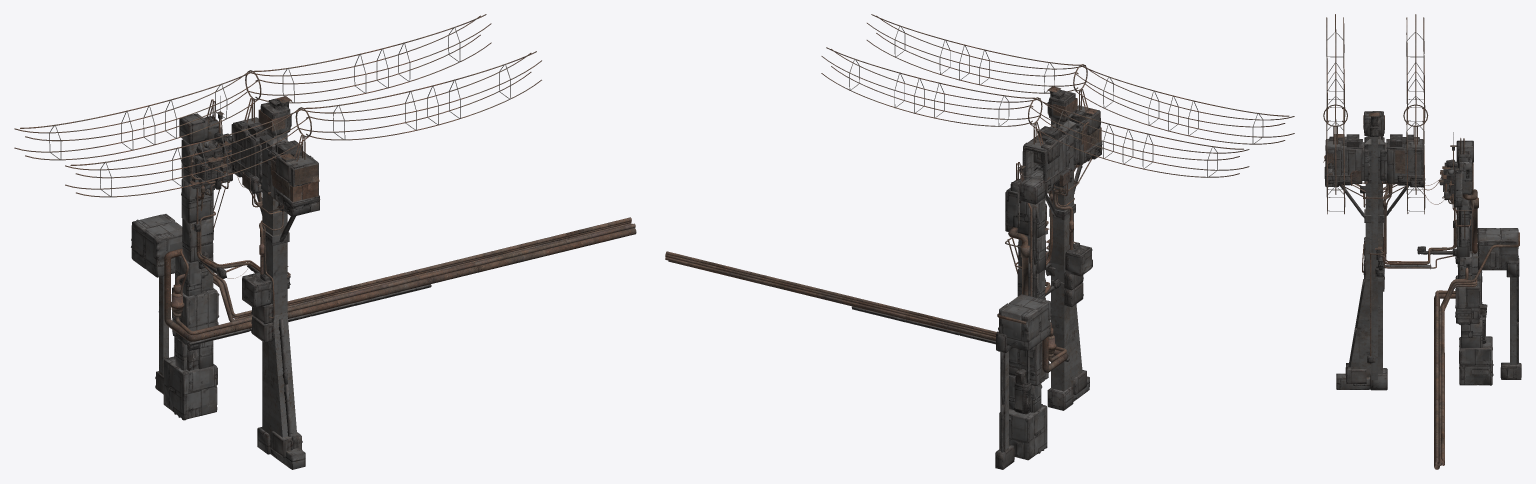
Rendered from LOC0.fbx.
3 views of the same model, side by side, from view 1: azimuth 30°, elevation 25°; view 2: azimuth 150°, elevation 25°; view 3: azimuth 270°, elevation 25° (orthographic). The views are drawn at different scales.
Visible parts, largest first — view 1: pip.044, Plane.001, CityAsset-12.001, CityAsset-12.002, cable_0.002, cable_0.006, cable_0.003, cable_0.001, Cube.002, CityAsset-13.001, Techblock-9.040, Techblock-9.037 (+6 smaller); view 2: pip.044, Plane.001, CityAsset-12.002, CityAsset-12.001, cable_0.002, cable_0.006, cable_0.001, cable_0.003, CityAsset-13.001, CityAsset-14.009, Cube.002, CityAsset-9.004 (+1 smaller); view 3: pip.044, Plane.001, Plane.002, CityAsset-12.002, CityAsset-12.001, CityAsset-13.001, CityAsset-14.007, CityAsset-14.009, Plane.004, Cube.002, Techblock-9.048, cable_0.001 (+26 smaller).
Part boxes in pixels (box(x1,y1,x2,y2)): pip.044: box(164, 217, 636, 341); Plane.001: box(259, 133, 296, 437); CityAsset-12.001: box(163, 356, 217, 420); CityAsset-12.002: box(131, 214, 182, 277); cable_0.002: box(14, 71, 257, 160); cable_0.006: box(65, 108, 308, 197); cable_0.003: box(298, 51, 541, 140); cable_0.001: box(248, 14, 491, 103); Cube.002: box(242, 109, 319, 266); CityAsset-13.001: box(172, 287, 219, 344); Techblock-9.040: box(182, 218, 213, 262); Techblock-9.037: box(181, 179, 212, 223); pip.044: box(665, 203, 1068, 372); Plane.001: box(1049, 119, 1082, 391); CityAsset-12.002: box(998, 294, 1051, 350); CityAsset-12.001: box(999, 404, 1047, 460); cable_0.002: box(1030, 98, 1249, 177); cable_0.006: box(1075, 65, 1294, 144); cable_0.001: box(821, 47, 1040, 126); cable_0.003: box(866, 14, 1085, 93); CityAsset-13.001: box(1009, 341, 1049, 385); CityAsset-14.009: box(1023, 137, 1066, 188); Cube.002: box(1046, 98, 1101, 243); CityAsset-9.004: box(1065, 245, 1092, 276); pip.044: box(1434, 163, 1519, 469); Plane.001: box(1350, 136, 1384, 377); Plane.002: box(1371, 137, 1377, 380); CityAsset-12.002: box(1477, 228, 1518, 270); CityAsset-12.001: box(1459, 336, 1493, 385); CityAsset-13.001: box(1455, 275, 1480, 324); CityAsset-14.007: box(1325, 140, 1362, 184); CityAsset-14.009: box(1387, 139, 1423, 183); Plane.004: box(1510, 277, 1516, 364); Cube.002: box(1323, 115, 1405, 249); Techblock-9.048: box(1461, 314, 1482, 347); cable_0.001: box(1406, 104, 1424, 214).
Size of the model in its own units: 1331 by 730 by 460.
